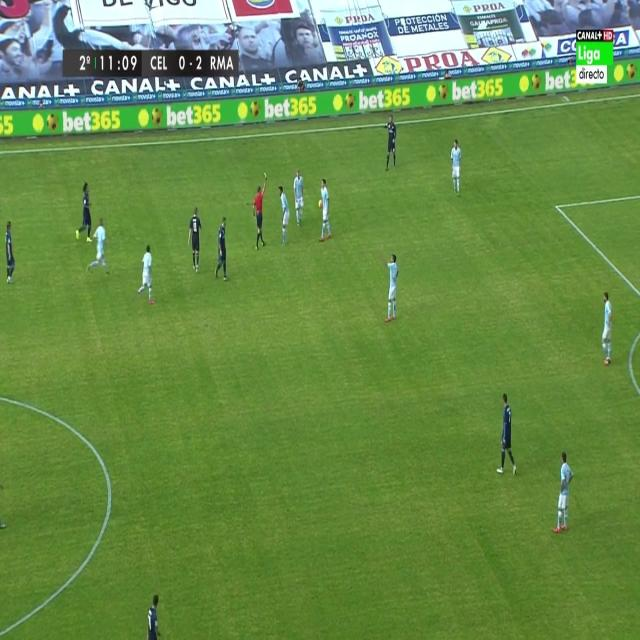Ball: (317, 198, 323, 212)
Player: (552, 447, 576, 539), (495, 389, 519, 480), (85, 215, 111, 279), (382, 252, 402, 327), (73, 182, 96, 247), (136, 244, 156, 308), (186, 206, 204, 276), (212, 213, 230, 283), (600, 287, 614, 368), (381, 114, 399, 175), (2, 222, 18, 290), (317, 177, 333, 244), (145, 588, 164, 640), (449, 138, 464, 199), (293, 168, 307, 231), (278, 182, 291, 246)
Referee: (252, 175, 270, 252)
